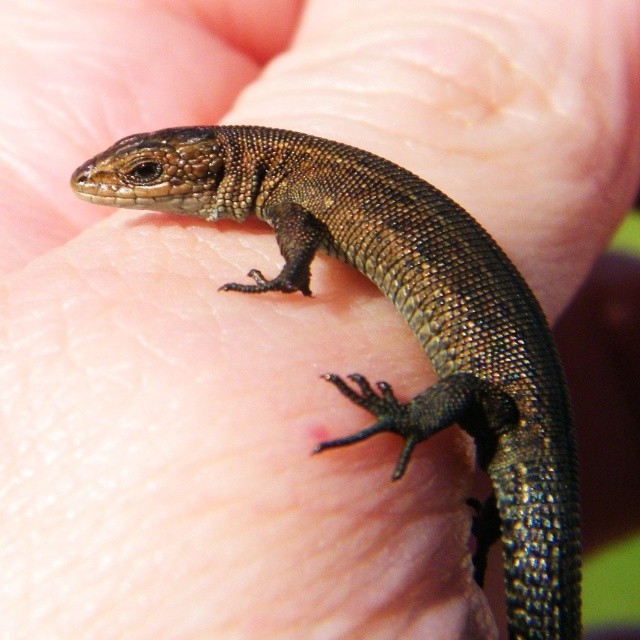Lizard: (69, 123, 584, 636)
